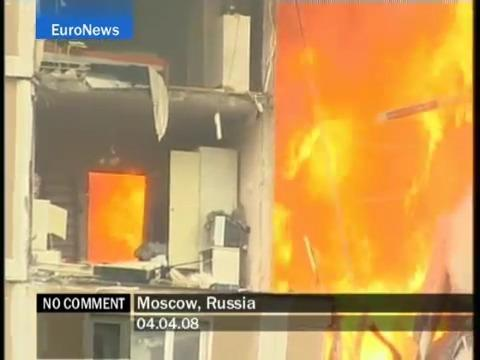fire: (274, 0, 476, 294), (88, 171, 144, 267)
